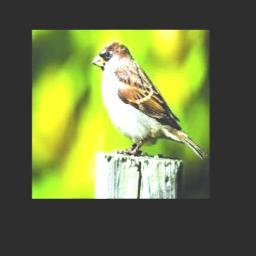Sparrow: (92, 42, 207, 160)
